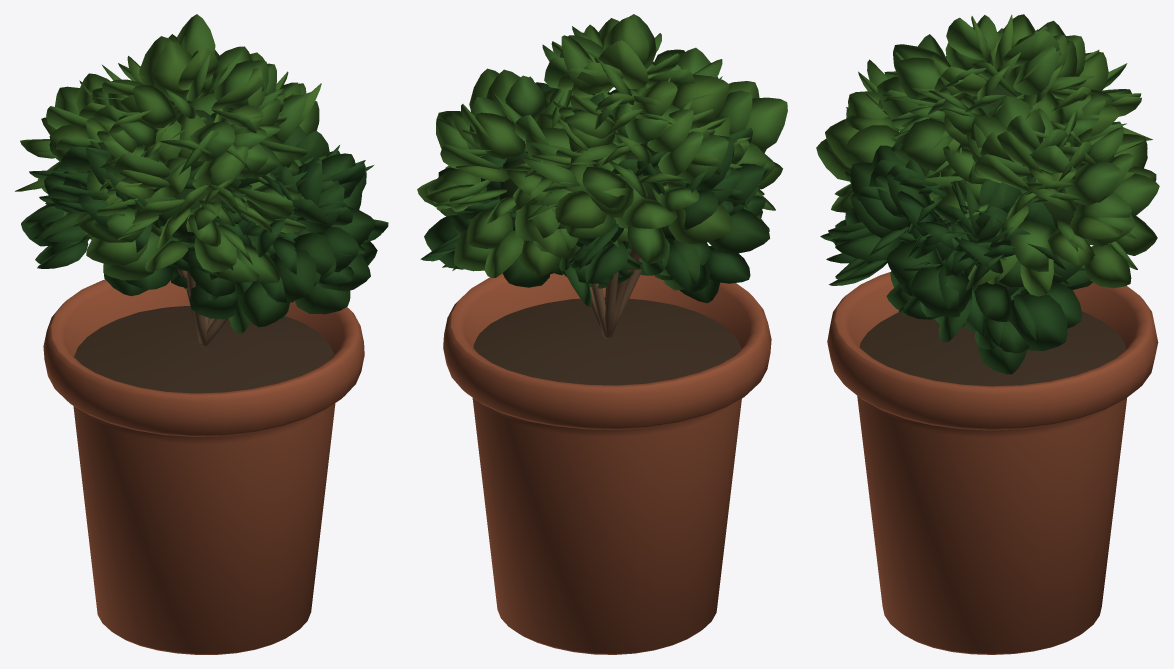
Rendered from pot_bush.glb.
3 renders of one model, left to right at view 1: azimuth 30°, elevation 25°; view 2: azimuth 150°, elevation 25°; view 3: azimuth 270°, elevation 25°, orthographic. The views are drawn at different scales.
Parts seen in each view (by area): view 1: Sammel Putz, Sammel Pflanze, Sammel Holz, Sammel Blatt; view 2: Sammel Putz, Sammel Pflanze, Sammel Holz, Sammel Blatt; view 3: Sammel Putz, Sammel Pflanze, Sammel Blatt.
Part boxes in pixels (left/top/right/bottom): Sammel Putz: left=43, top=279, right=364, bottom=654; Sammel Pflanze: left=15, top=14, right=388, bottom=333; Sammel Holz: left=159, top=236, right=227, bottom=346; Sammel Blatt: left=173, top=110, right=300, bottom=238; Sammel Putz: left=443, top=273, right=771, bottom=654; Sammel Pflanze: left=417, top=14, right=787, bottom=306; Sammel Holz: left=590, top=247, right=642, bottom=338; Sammel Blatt: left=499, top=97, right=674, bottom=240; Sammel Putz: left=827, top=272, right=1158, bottom=654; Sammel Pflanze: left=816, top=14, right=1159, bottom=374; Sammel Blatt: left=907, top=81, right=1078, bottom=295.
Size of the model in its own units: 0.5551 by 0.9415 by 0.4971.
